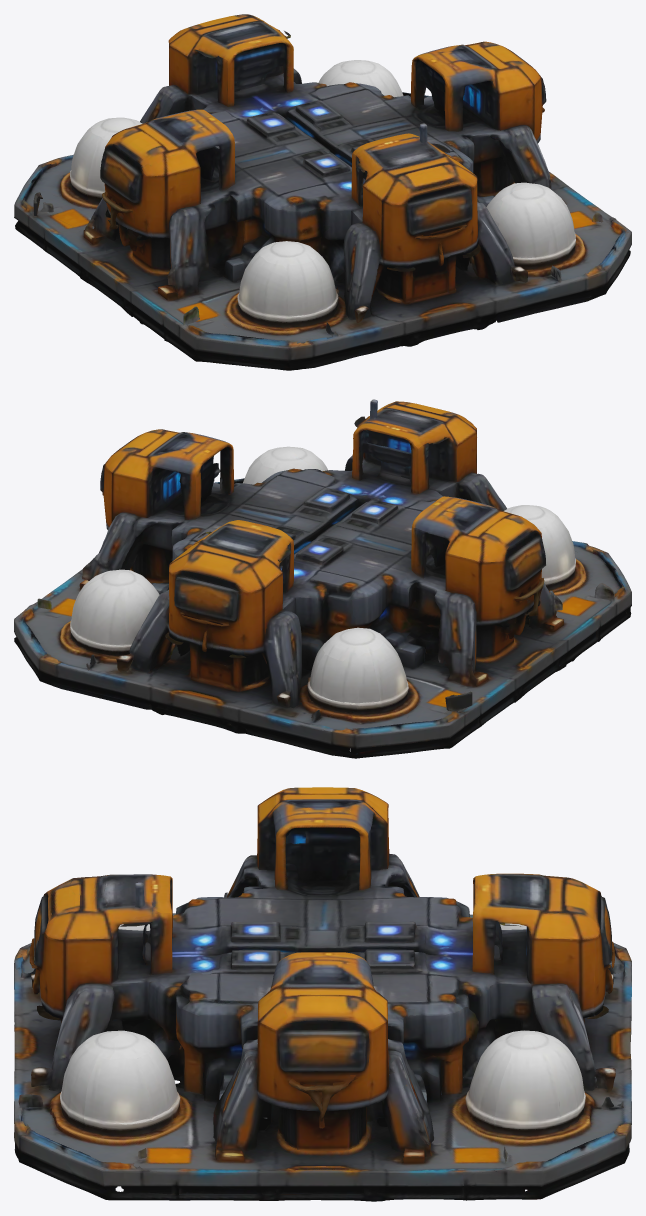
Rendered from habitat.glb.
3 views of the same model, one above another, from view 1: azimuth 30°, elevation 25°; view 2: azimuth 150°, elevation 25°; view 3: azimuth 270°, elevation 25° (orthographic). The views are drawn at different scales.
Visible parts, largest first — view 1: geometry_0; view 2: geometry_0; view 3: geometry_0.
Part boxes in pixels (x1=…): geometry_0: x1=14, y1=14, x2=631, y2=370; geometry_0: x1=14, y1=399, x2=631, y2=758; geometry_0: x1=14, y1=787, x2=631, y2=1201.
Size of the model in its own units: 1.94 by 0.7264 by 1.96.
1 material, 1 textured.
